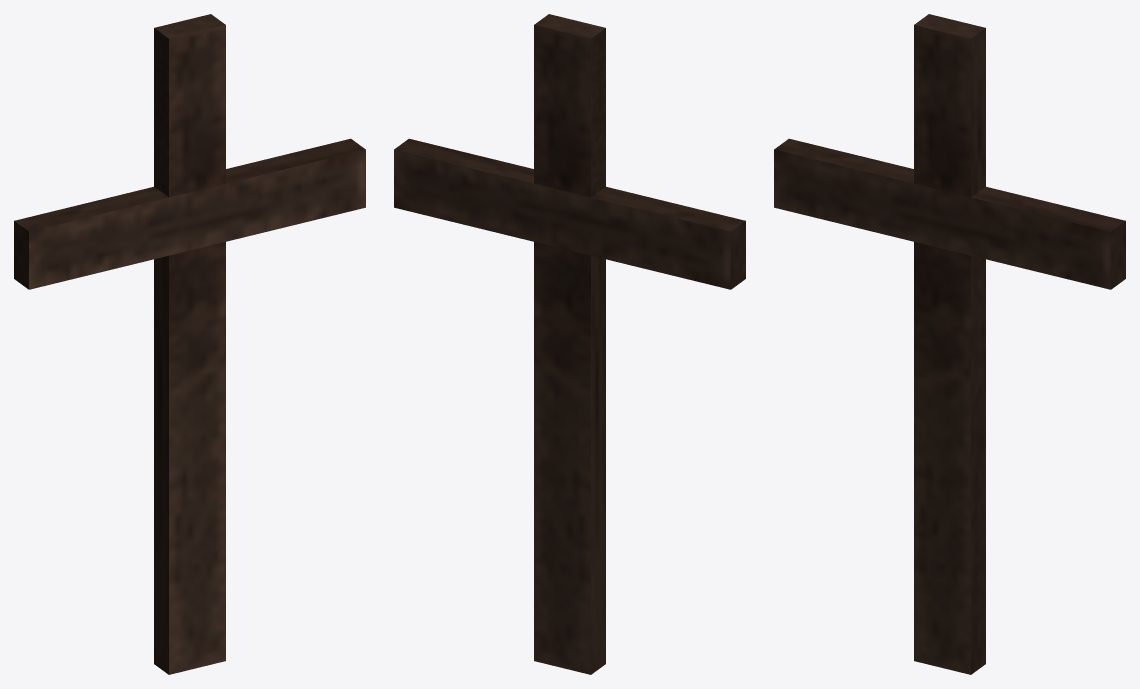
File: Cross.Simple_Small.fbx
3 renders of one model, left to right at view 1: azimuth 30°, elevation 25°; view 2: azimuth 150°, elevation 25°; view 3: azimuth 330°, elevation 25°, orthographic.
Parts seen in each view (by area): view 1: Cross.Simple_Small; view 2: Cross.Simple_Small; view 3: Cross.Simple_Small.
Boxes of the visible parts, x1=… form: Cross.Simple_Small: x1=14, y1=14, x2=365, y2=674; Cross.Simple_Small: x1=394, y1=14, x2=745, y2=674; Cross.Simple_Small: x1=774, y1=14, x2=1125, y2=674.
Size of the model in its own units: 17.96 by 32.42 by 1.37.
